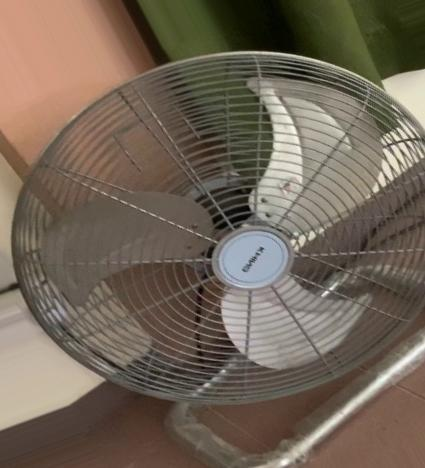fan: (19, 46, 425, 444)
